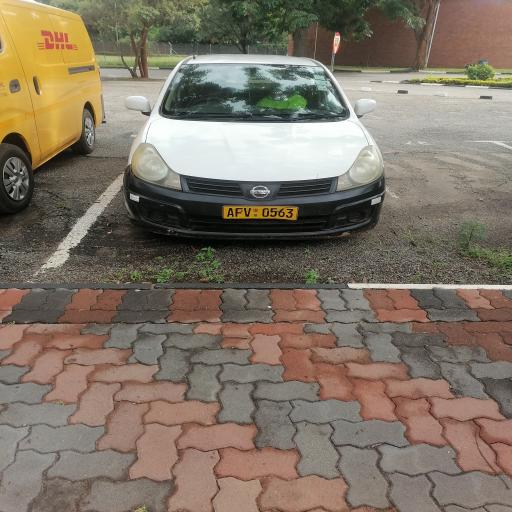number-plates: (220, 205, 304, 224)
